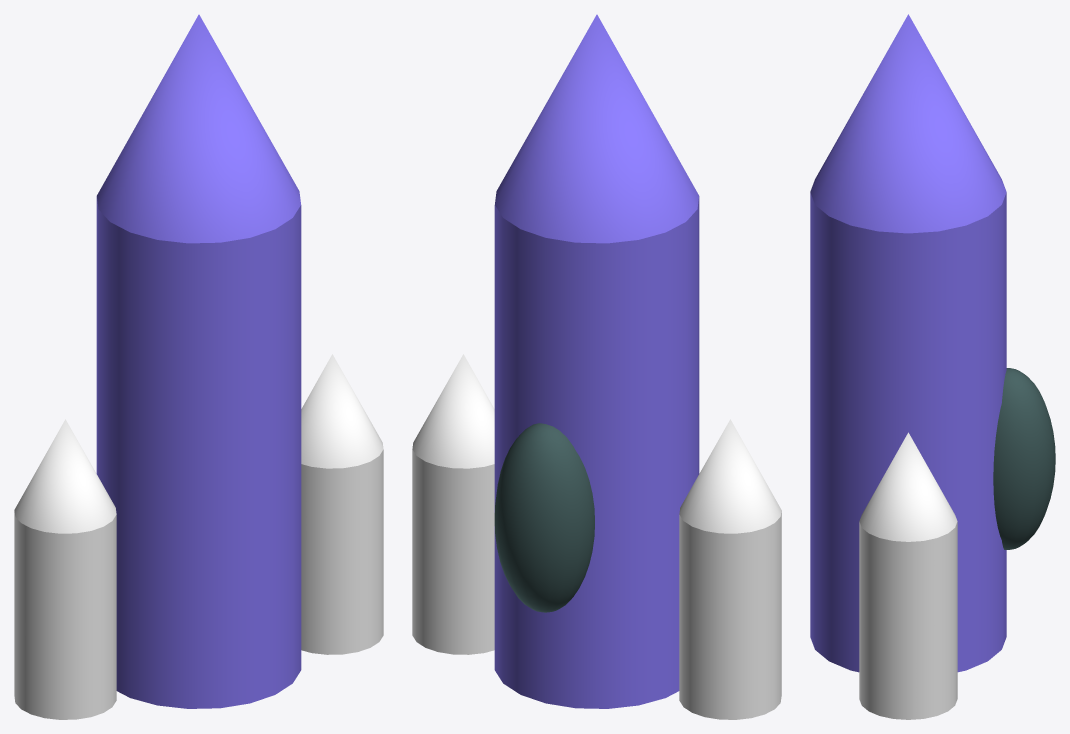
Rendered from vaisseau.obj.
The picture shows the model from 3 angles, left to right: view 1: azimuth 30°, elevation 25°; view 2: azimuth 150°, elevation 25°; view 3: azimuth 270°, elevation 25°; orthographic projection. The views are drawn at different scales.
Parts seen in each view (by area): view 1: group1 pCylinder1, pCone1 group1, group2 pCylinder3, pCylinder2 group2, group2 pCone3, group2 pCone2; view 2: group1 pCylinder1, pCone1 group1, group2 pCylinder3, pCylinder2 group2, pSphere1, group2 pCone3, group2 pCone2; view 3: group1 pCylinder1, pCone1 group1, pCylinder2 group2, pSphere1, group2 pCone2.
Part boxes in pixels (x1,y1,x2,y2): group1 pCylinder1: [96, 196, 301, 708]; pCone1 group1: [97, 14, 300, 243]; group2 pCylinder3: [14, 510, 116, 719]; pCylinder2 group2: [301, 449, 383, 654]; group2 pCone3: [14, 419, 116, 533]; group2 pCone2: [301, 354, 383, 468]; group1 pCylinder1: [494, 196, 699, 708]; pCone1 group1: [495, 14, 698, 243]; group2 pCylinder3: [679, 510, 781, 719]; pCylinder2 group2: [412, 449, 494, 654]; pSphere1: [494, 423, 594, 612]; group2 pCone3: [679, 419, 781, 533]; group2 pCone2: [412, 354, 494, 468]; group1 pCylinder1: [810, 192, 1006, 672]; pCone1 group1: [810, 14, 1006, 233]; pCylinder2 group2: [859, 521, 957, 719]; pSphere1: [993, 368, 1055, 549]; group2 pCone2: [859, 432, 957, 541].
Size of the model in its own units: 8 by 14 by 5.
